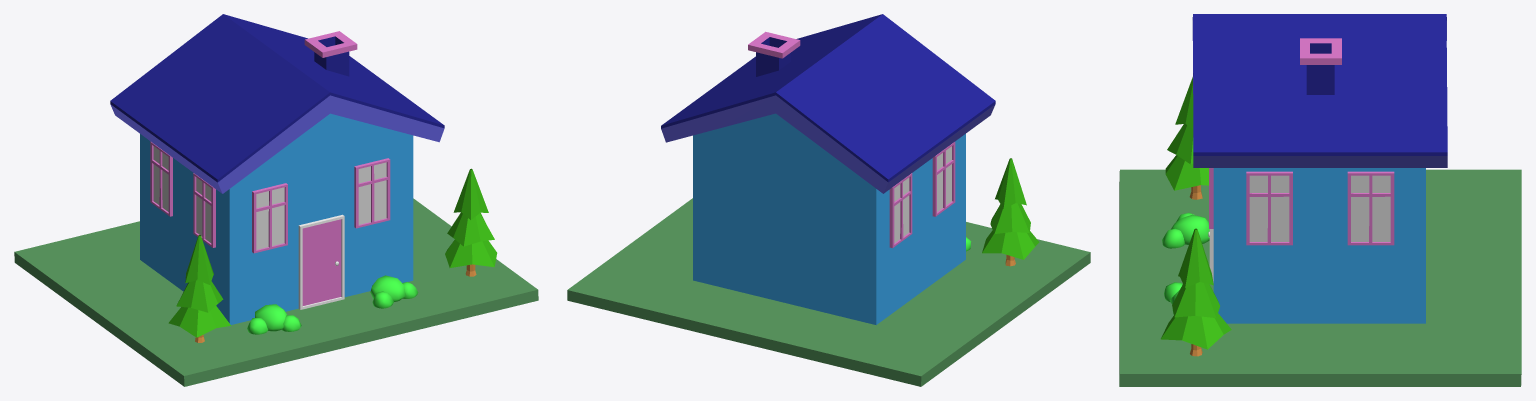
Rendered from house-4.fbx.
3 views of the same model, side by side, from view 1: azimuth 30°, elevation 25°; view 2: azimuth 150°, elevation 25°; view 3: azimuth 270°, elevation 25° (orthographic). The views are drawn at different scales.
Visible parts, largest first — view 1: Plane, Cube, Cube.001, Cube.005, christmas tree, christmas tree.001, big window 1.001, big window 1, Cube.002, big window 1.004, big window 1.005, Icosphere.005 (+1 smaller); view 2: Cube, Plane, Cube.001, christmas tree.001, Cube.002, big window 1.004, big window 1.005; view 3: Plane, Cube.001, Cube, christmas tree, big window 1.003, big window 1.002, christmas tree.001, Cube.002, Icosphere, Icosphere.002.
Boxes of the visible parts, left/top/right/bottom form: Plane: left=14, top=198, right=538, bottom=386; Cube: left=140, top=113, right=413, bottom=324; Cube.001: left=110, top=14, right=444, bottom=193; Cube.005: left=298, top=214, right=344, bottom=309; christmas tree: left=445, top=168, right=497, bottom=276; christmas tree.001: left=168, top=235, right=230, bottom=342; big window 1.001: left=354, top=158, right=390, bottom=228; big window 1: left=252, top=183, right=287, bottom=253; Cube.002: left=304, top=31, right=357, bottom=76; big window 1.004: left=150, top=141, right=172, bottom=216; big window 1.005: left=193, top=173, right=215, bottom=247; Icosphere.005: left=370, top=275, right=406, bottom=301; Cube: left=693, top=113, right=965, bottom=324; Plane: left=567, top=198, right=1090, bottom=386; Cube.001: left=661, top=14, right=995, bottom=193; christmas tree.001: left=982, top=158, right=1039, bottom=266; Cube.002: left=748, top=31, right=800, bottom=76; big window 1.004: left=889, top=173, right=912, bottom=248; big window 1.005: left=932, top=142, right=955, bottom=216; Plane: left=1119, top=169, right=1521, bottom=386; Cube.001: left=1192, top=14, right=1447, bottom=167; Cube: left=1213, top=168, right=1425, bottom=323; christmas tree: left=1161, top=228, right=1231, bottom=356; big window 1.003: left=1347, top=171, right=1394, bottom=245; big window 1.002: left=1246, top=171, right=1292, bottom=245; christmas tree.001: left=1165, top=77, right=1208, bottom=199; Cube.002: left=1300, top=38, right=1341, bottom=94; Icosphere: left=1171, top=214, right=1209, bottom=244; Icosphere.002: left=1162, top=228, right=1184, bottom=248.
Size of the model in its own units: 2949 by 1818 by 2448.
